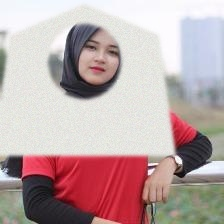Mukena: (0, 3, 175, 156)
